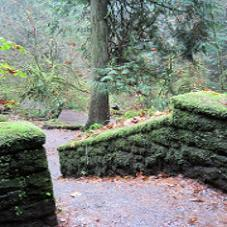Animal: (57, 171, 148, 219)
